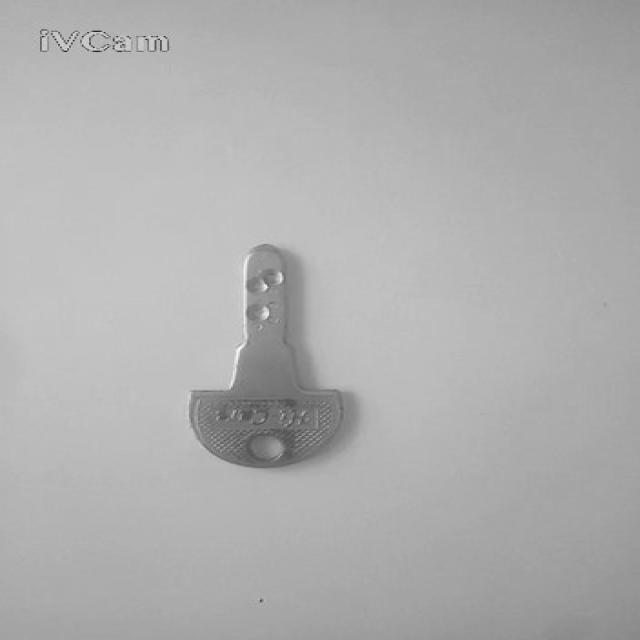key: (189, 245, 342, 467)
